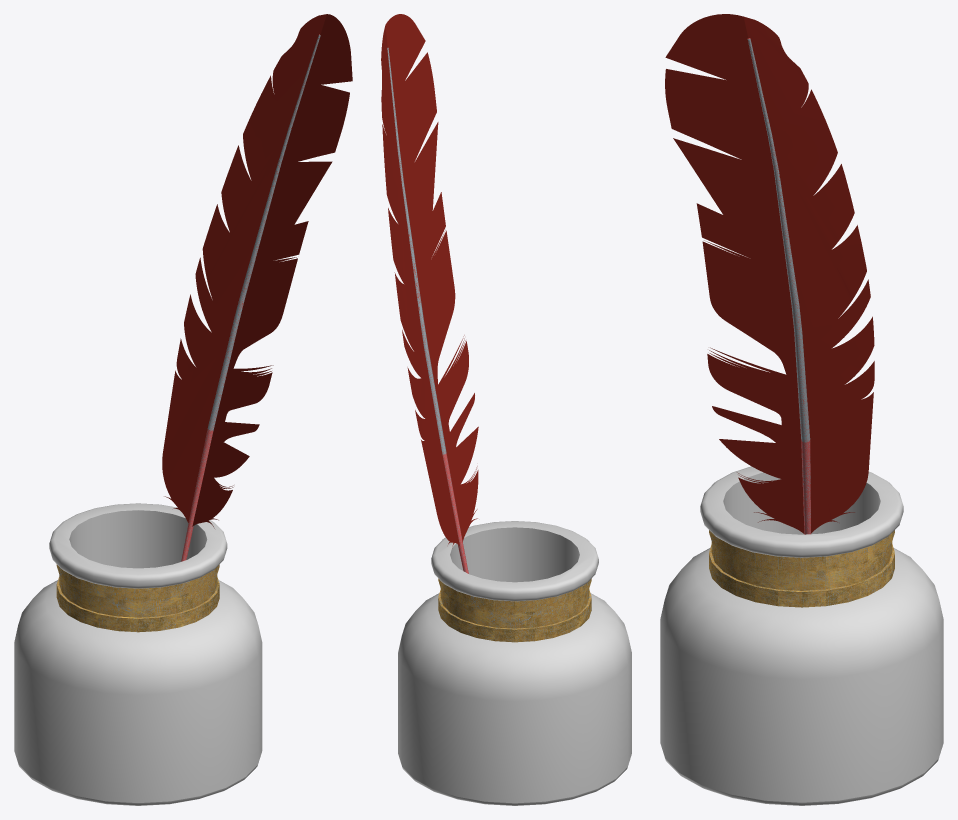
The model's file is quill.fbx.
3 renders of one model, left to right at view 1: azimuth 30°, elevation 25°; view 2: azimuth 150°, elevation 25°; view 3: azimuth 270°, elevation 25°, orthographic. The views are drawn at different scales.
Visible parts, largest first — view 1: Kalam__1, Brk__p_rko1, Kalam____obrou_ka1, Brk__st_ed1; view 2: Kalam__1, Brk__p_rko1, Kalam____obrou_ka1, Brk__st_ed1; view 3: Kalam__1, Brk__p_rko1, Kalam____obrou_ka1, Brk__st_ed1.
Part boxes in pixels (x1,y1,x2,y2): Kalam__1: (14, 503, 262, 805); Brk__p_rko1: (162, 14, 352, 528); Kalam____obrou_ka1: (56, 564, 219, 632); Brk__st_ed1: (181, 34, 320, 561); Kalam__1: (398, 521, 631, 805); Brk__p_rko1: (381, 14, 478, 546); Kalam____obrou_ka1: (438, 578, 591, 642); Brk__st_ed1: (387, 47, 468, 573); Kalam__1: (660, 466, 943, 805); Brk__p_rko1: (665, 14, 874, 533); Kalam____obrou_ka1: (709, 530, 894, 607); Brk__st_ed1: (747, 38, 810, 534).
Size of the model in its own units: 2.48 by 6.32 by 1.97.
